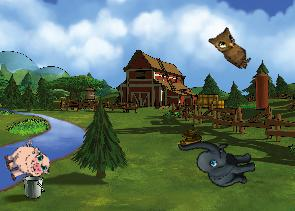elephant: (177, 125, 259, 197)
owl: (205, 22, 259, 71)
pig: (0, 137, 53, 188)
